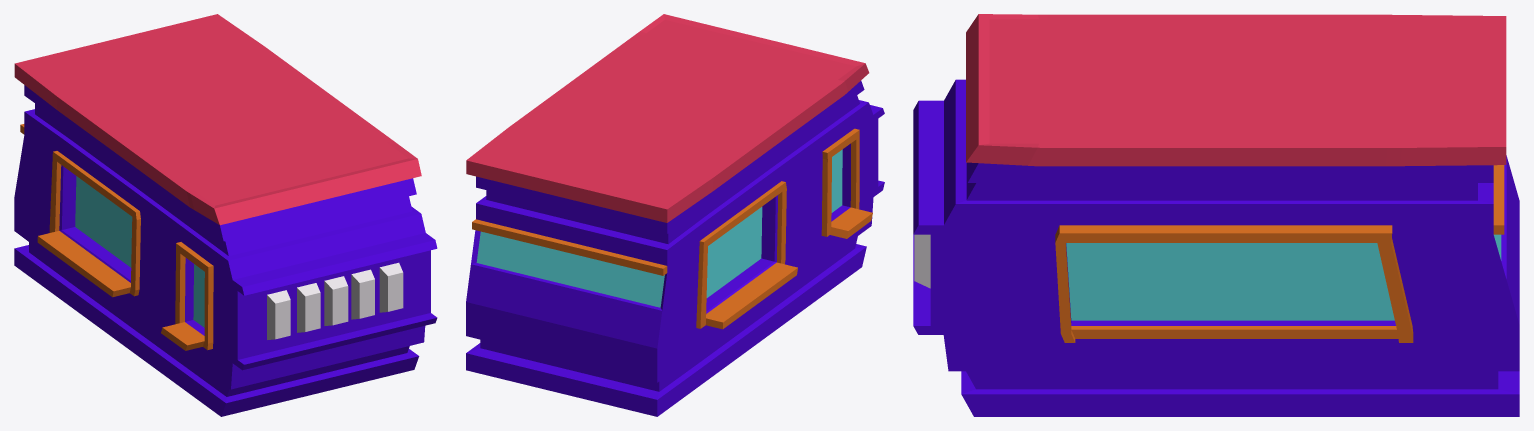
The model's file is FBX_LC_mHouse2.fbx.
3 renders of one model, left to right at view 1: azimuth 30°, elevation 25°; view 2: azimuth 150°, elevation 25°; view 3: azimuth 270°, elevation 25°, orthographic. The views are drawn at different scales.
Parts seen in each view (by area): view 1: Cube; view 2: Cube; view 3: Cube.
Boxes of the visible parts, x1,y1,x2,y2 form: Cube: [14, 14, 437, 416]; Cube: [466, 14, 884, 416]; Cube: [913, 14, 1519, 416].
Size of the model in its own units: 1214 by 1059 by 2117.
